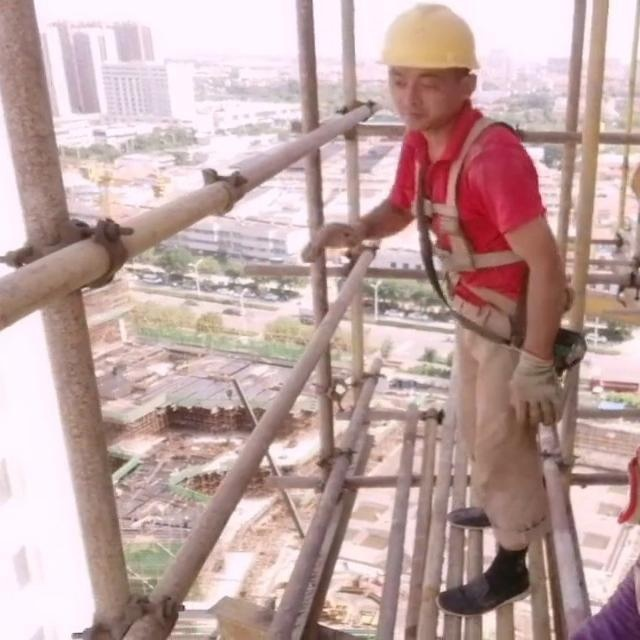Arnes_seguridad: (405, 110, 548, 280)
